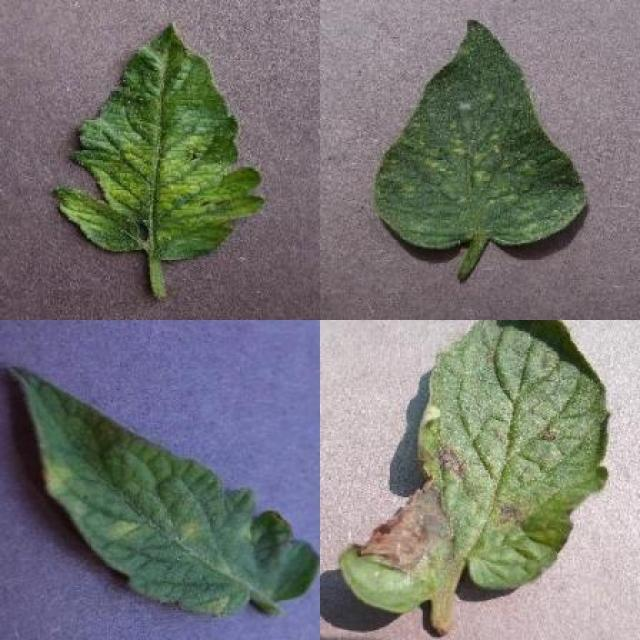Late Blight: (337, 319, 610, 616)
Leaf Mold: (9, 364, 320, 616)
Mosaic Virus: (50, 20, 267, 260)
Spider Mites: (378, 19, 588, 250)
